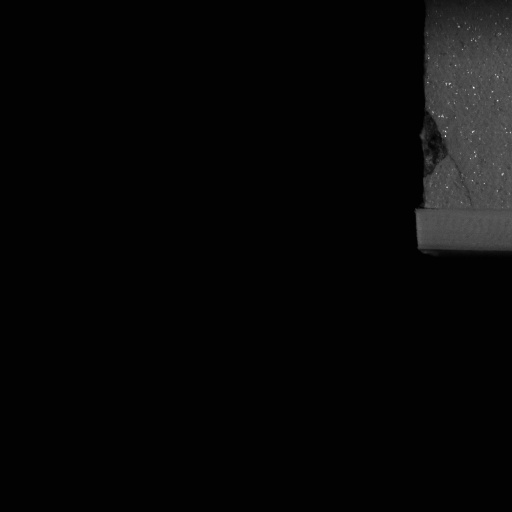bengque: (418, 108, 451, 186)
